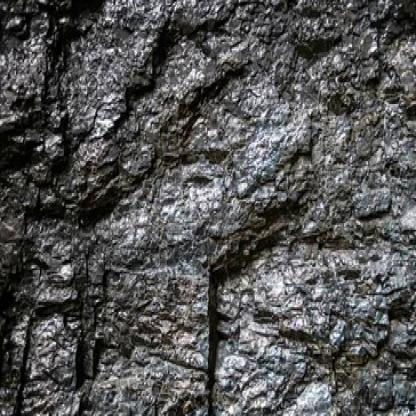Sedimentary_coal: (0, 7, 415, 414)
